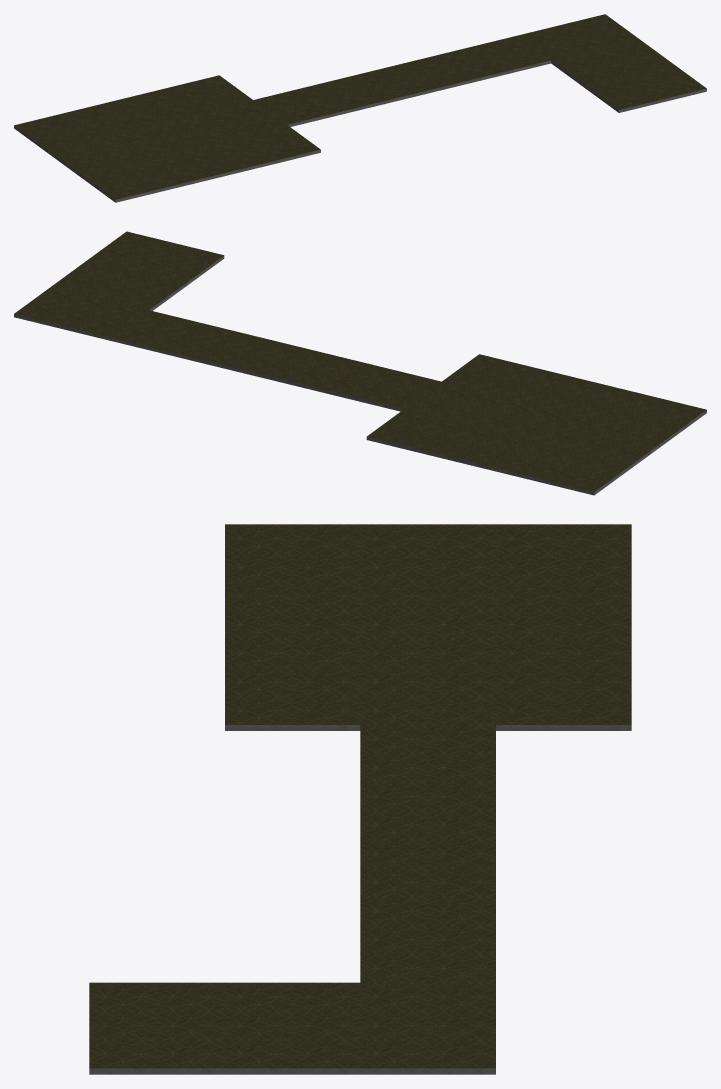
File: hello-nightmar-roof.fbx
The picture shows the model from 3 angles, top to bottom: view 1: azimuth 30°, elevation 25°; view 2: azimuth 150°, elevation 25°; view 3: azimuth 270°, elevation 25°; orthographic projection. The views are drawn at different scales.
Visible parts, largest first — view 1: FloorTile.008, FloorTile.007, FloorTile.006; view 2: FloorTile.008, FloorTile.007, FloorTile.006; view 3: FloorTile.008, FloorTile.006, FloorTile.007.
Part boxes in pixels (<box>): FloorTile.008: <box>14,75,320,202</box>; FloorTile.007: <box>253,35,551,126</box>; FloorTile.006: <box>518,14,706,112</box>; FloorTile.008: <box>366,354,706,495</box>; FloorTile.007: <box>111,310,441,411</box>; FloorTile.006: <box>14,231,224,340</box>; FloorTile.008: <box>225,524,631,730</box>; FloorTile.006: <box>89,982,495,1074</box>; FloorTile.007: <box>360,725,495,982</box>.
Bounding box in the file's own units: 3800 × 20 × 1600.
3 materials, 3 textured.
